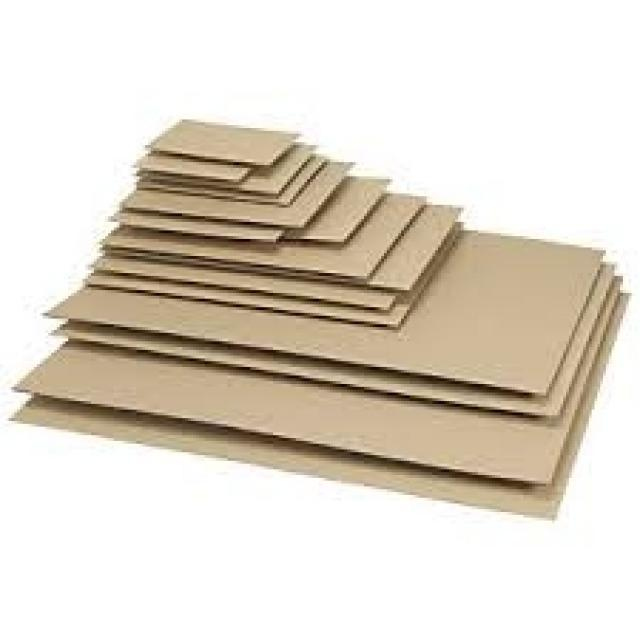cardboard paper: (15, 119, 619, 514)
